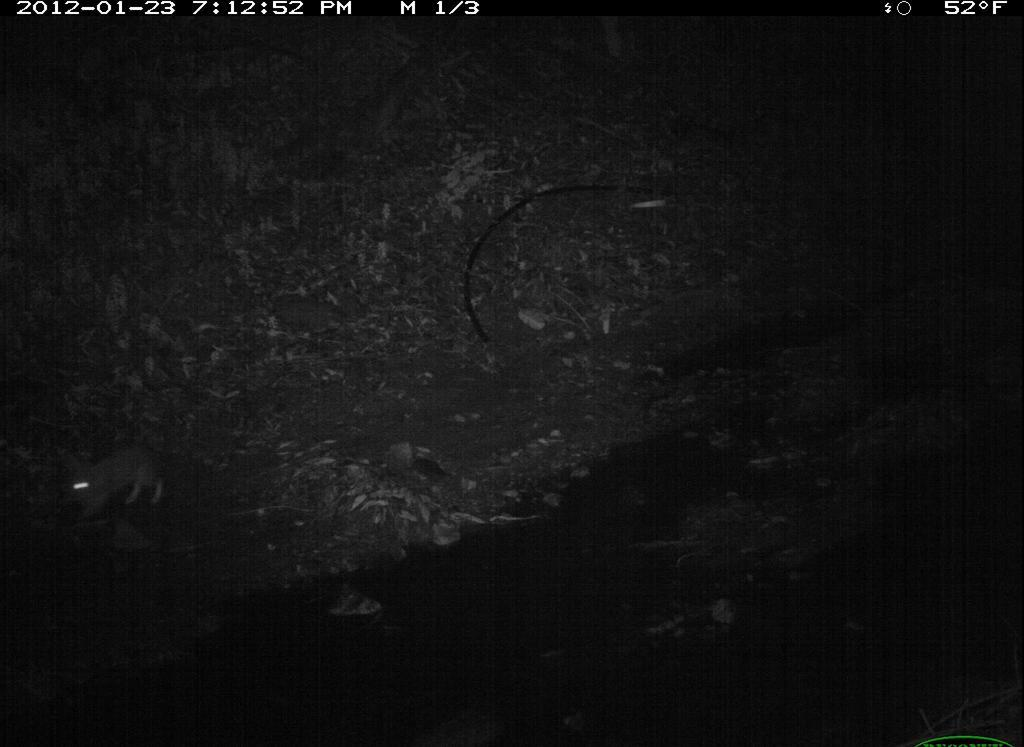rabbit: (52, 432, 176, 539)
